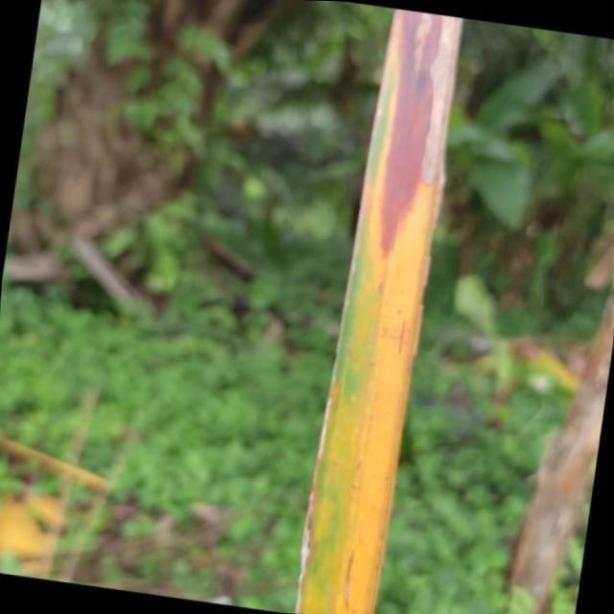Megnesium: (296, 7, 461, 614)
